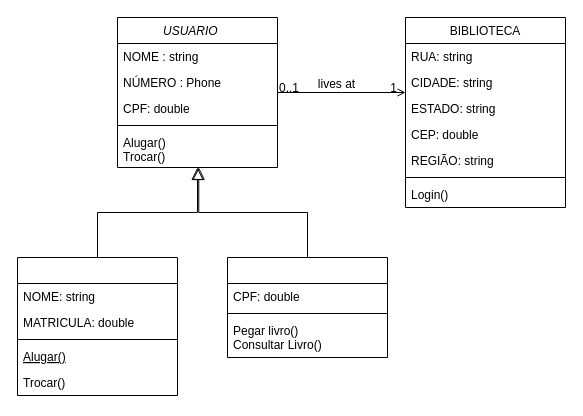
Image size: 583x416. Some labels were removed from this diagram. Each missing label, with the box of its shape:
e-ESTUDANTE: (16, 256, 178, 396)
Professor: (226, 256, 388, 358)
